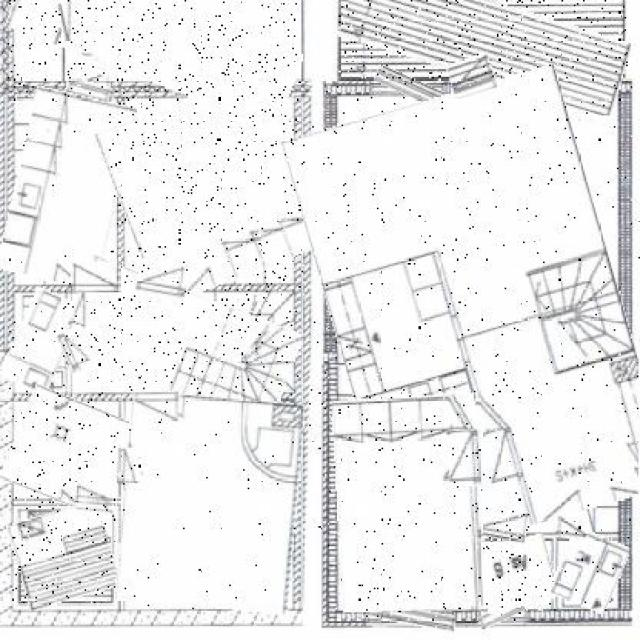door: (309, 80, 640, 546), (109, 87, 305, 296), (120, 395, 302, 611), (335, 395, 483, 611), (63, 274, 299, 409), (8, 0, 302, 102), (338, 0, 627, 95), (6, 91, 128, 286), (6, 392, 126, 508), (12, 508, 116, 606), (8, 291, 75, 392), (477, 537, 555, 611), (554, 531, 623, 611)
window: (446, 431, 485, 486), (137, 260, 188, 298), (450, 55, 496, 97), (483, 509, 529, 543), (71, 263, 120, 294), (134, 392, 178, 423), (62, 326, 92, 371), (77, 484, 117, 514), (57, 0, 88, 38), (115, 448, 140, 483), (557, 517, 588, 537)
zone: (170, 74, 262, 105), (502, 76, 589, 104), (374, 72, 444, 101), (365, 606, 457, 628), (477, 605, 525, 626), (66, 80, 114, 100)
